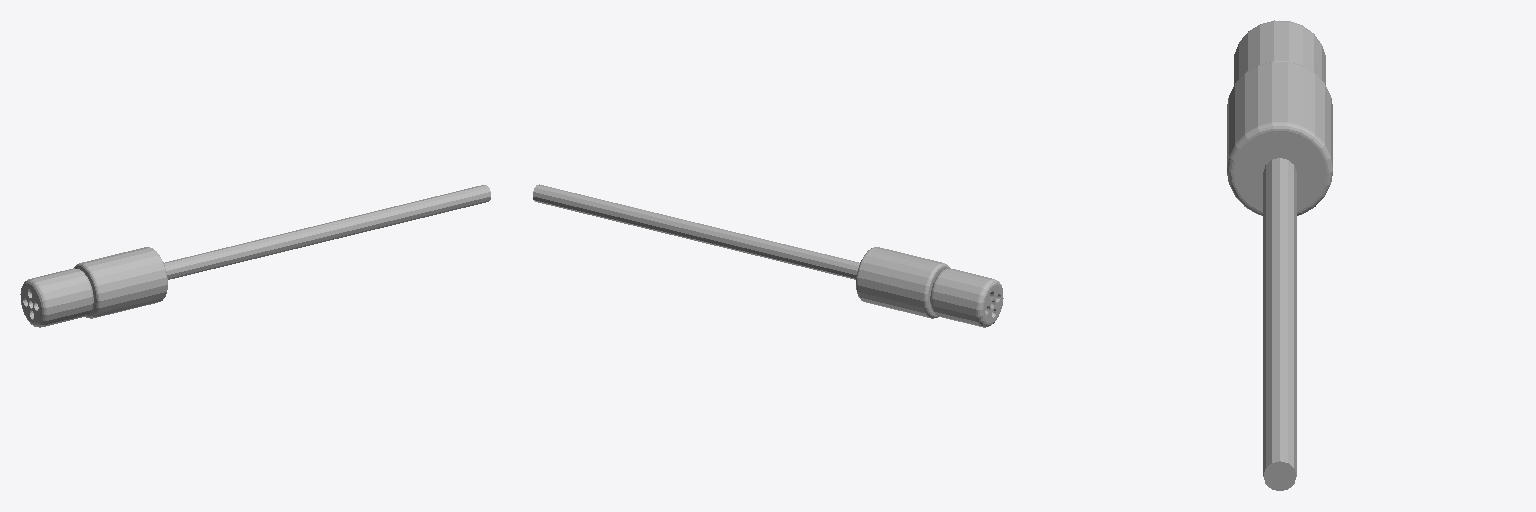
robot.urdf — 00_spuitkop:
<robot
  name="00_spuitkop">
  <link
    name="00_spuitkop"
    type="floating">
    <inertial>
      <origin
        xyz="3.0263E-08 -0.0037223 1.88710000002279E-08"
        rpy="0 0 0" />
      <mass
        value="0.073584" />
      <inertia
        ixx="0.000368080227636541"
        ixy="-1.98610106414483E-10"
        ixz="8.15533606242805E-11"
        iyy="6.92935528074029E-06"
        iyz="6.44887113101755E-11"
        izz="0.000368080310653381" />
    </inertial>
    <visual>
      <origin
        xyz="0.2 0 0"
        rpy="1.5707963267949 0 -1.5707963267949" />
      <geometry>
        <mesh
          filename="package://cr_mit/URDF/00_spuitkop/meshes/00_spuitkop.STL" />
      </geometry>
      <material
        name="">
        <color
          rgba="0.7451 0.7451 0.7451 1" />
      </material>
    </visual>
    <collision>
      <origin
        xyz="0 0 0"
        rpy="1.5707963267949 0 0" />
      <geometry>
        <mesh
          filename="package://cr_mit/URDF/00_spuitkop/meshes/00_spuitkop.STL" />
      </geometry>
    </collision>
  </link>
</robot>

--- What the picture shows (computed from the rendered views, not written in the file) ---
3 views of the same robot in one strip: view 1: azimuth 30°, elevation 25°; view 2: azimuth 150°, elevation 25°; view 3: azimuth 270°, elevation 25° (orthographic).
Robot: 00_spuitkop — 1 links, 0 joints (none); root link 00_spuitkop; default pose: all joints at 0.
Links seen in each view (by area): view 1: 00_spuitkop; view 2: 00_spuitkop; view 3: 00_spuitkop.
Boxes of the visible links, bbox=[...] form: 00_spuitkop: bbox=[20, 185, 490, 327]; 00_spuitkop: bbox=[533, 184, 1003, 327]; 00_spuitkop: bbox=[1227, 20, 1332, 490].
Size in the robot's own frame: 0.2955 by 0.032 by 0.0317 metres.
1 mesh visuals loaded from 1 distinct referenced files (1 binary STL).